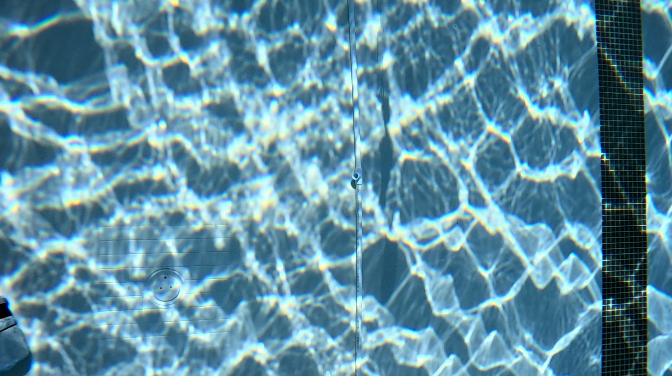sandbag: (0, 297, 31, 367)
